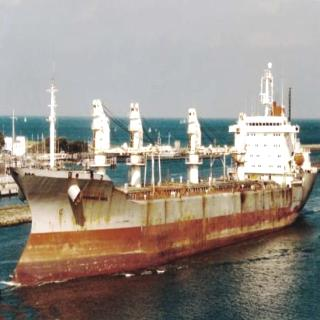Bulk Carrier: (1, 88, 317, 278)
